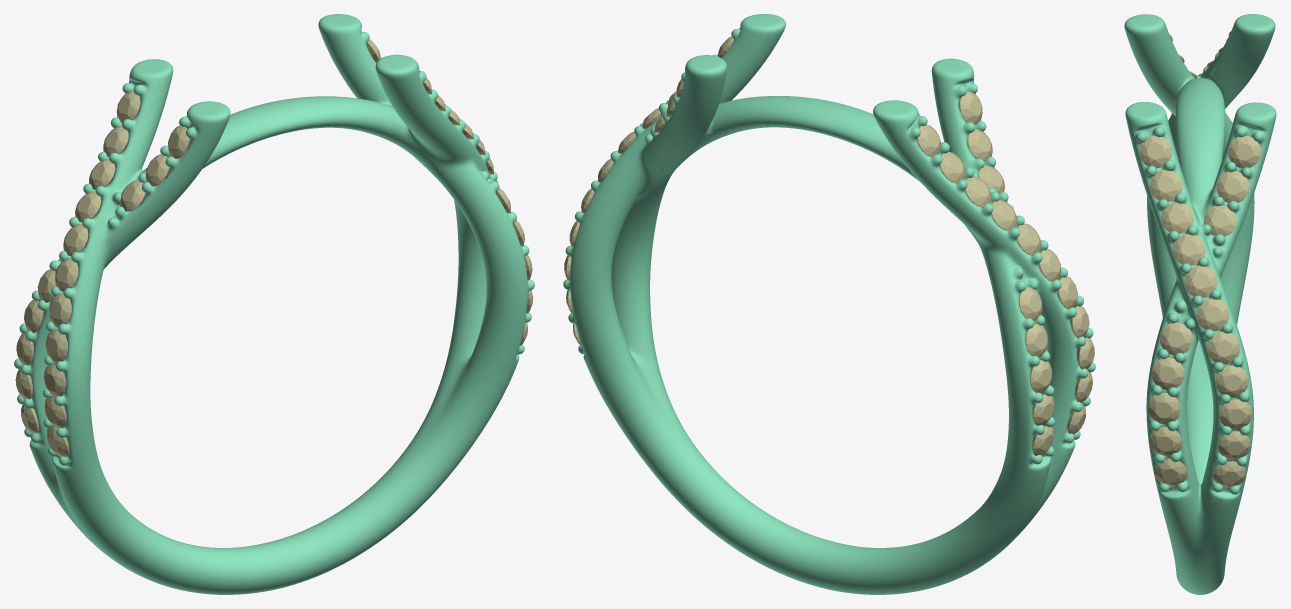
3 views of the same model, side by side, from view 1: azimuth 30°, elevation 25°; view 2: azimuth 150°, elevation 25°; view 3: azimuth 270°, elevation 25° (orthographic). The views are drawn at different scales.
Parts seen in each view (by area): view 1: Metal02; view 2: Metal02; view 3: Metal02, Diamond_Gem.016, Diamond_Gem.012, Diamond_Gem.007, Diamond_Gem.013, Diamond_Gem.017, Diamond_Gem.008, Diamond_Gem.004, Diamond_Gem, Diamond_Gem.014, Diamond_Gem.003, Diamond_Gem.001 (+8 smaller).
Boxes of the visible parts, box(x1,y1,x2,y2) form: Metal02: box(14, 14, 534, 594); Metal02: box(563, 14, 1095, 594); Metal02: box(1124, 14, 1276, 594); Diamond_Gem.016: box(1228, 135, 1261, 168); Diamond_Gem.012: box(1196, 298, 1229, 331); Diamond_Gem.007: box(1160, 322, 1192, 355); Diamond_Gem.013: box(1207, 331, 1240, 364); Diamond_Gem.017: box(1216, 171, 1249, 202); Diamond_Gem.008: box(1151, 357, 1184, 390); Diamond_Gem.004: box(1139, 135, 1172, 168); Diamond_Gem: box(1184, 265, 1217, 297); Diamond_Gem.014: box(1215, 365, 1248, 397); Diamond_Gem.003: box(1149, 170, 1182, 201); Diamond_Gem.001: box(1172, 234, 1205, 265).
Bounding box in the file's own units: 21.41 × 21.88 × 5.96.
